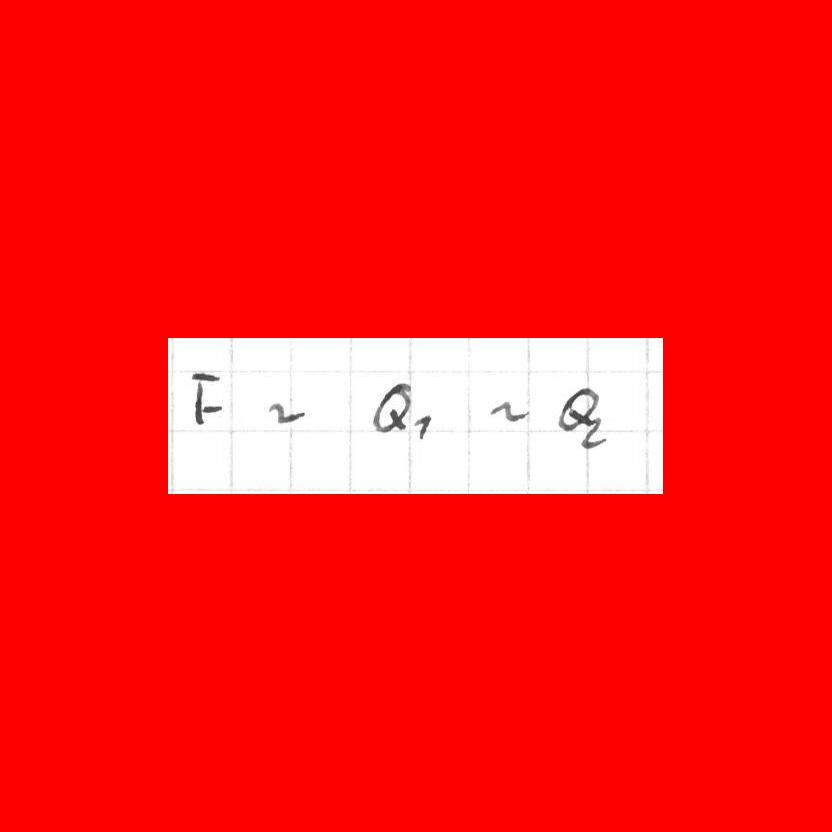Char: (369, 377, 417, 438), (188, 367, 231, 430), (555, 384, 599, 432), (576, 415, 615, 450), (488, 396, 532, 425), (264, 397, 311, 424), (409, 411, 437, 440)
